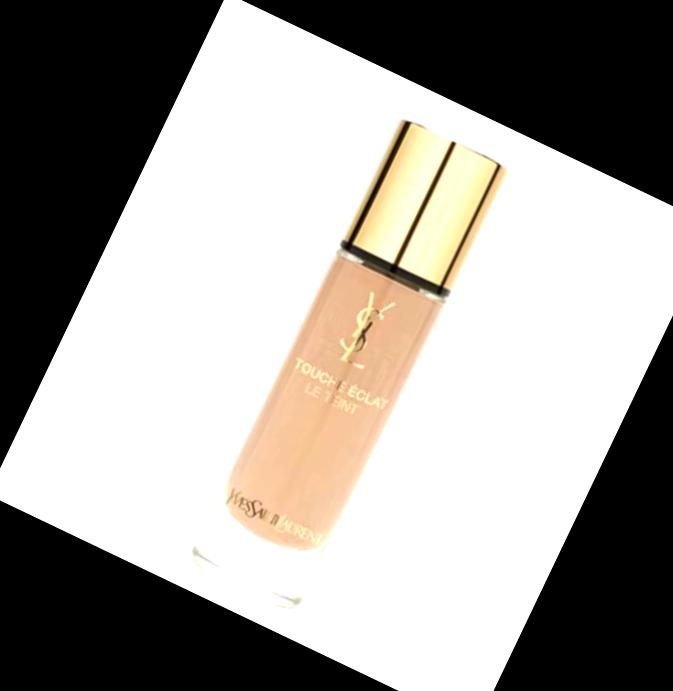cosmetic: (184, 111, 516, 618)
